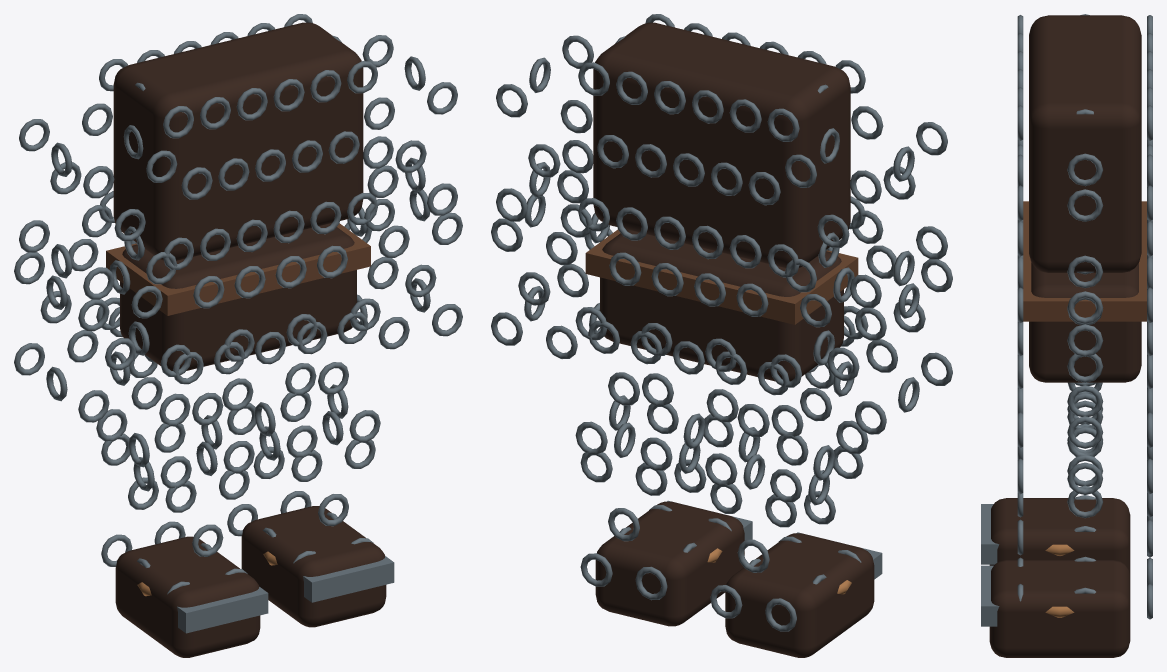
File: armor-ringmail.glb
3 renders of one model, left to right at view 1: azimuth 30°, elevation 25°; view 2: azimuth 150°, elevation 25°; view 3: azimuth 270°, elevation 25°, orthographic. The views are drawn at different scales.
Visible parts, largest first — view 1: ringmail-leather-base, leather-boot (×2), ringmail-waist-base, ringmail-belt, boot-toe-cap (×2); view 2: ringmail-leather-base, leather-boot (×2), ringmail-waist-base, ringmail-belt; view 3: ringmail-leather-base, leather-boot (×2), ringmail-waist-base, ringmail-side-ring (×13), ringmail-belt, boot-toe-cap (×2).
Part boxes in pixels (x1,y1,x2,y2): ringmail-leather-base: [113, 22, 363, 260]; leather-boot (×2): [115, 506, 386, 657]; ringmail-waist-base: [120, 223, 356, 370]; ringmail-belt: [106, 223, 370, 315]; boot-toe-cap (×2): [177, 556, 394, 633]; ringmail-leather-base: [593, 22, 850, 267]; leather-boot (×2): [595, 501, 874, 657]; ringmail-waist-base: [600, 229, 843, 381]; ringmail-belt: [585, 229, 858, 324]; ringmail-leather-base: [1029, 15, 1141, 272]; leather-boot (×2): [989, 498, 1130, 657]; ringmail-waist-base: [1029, 262, 1141, 382]; ringmail-side-ring (×13): [1067, 153, 1103, 518]; ringmail-belt: [1023, 201, 1146, 321]; boot-toe-cap (×2): [981, 504, 999, 626].
Size of the model in its own units: 0.794 by 1.08 by 0.3052.
